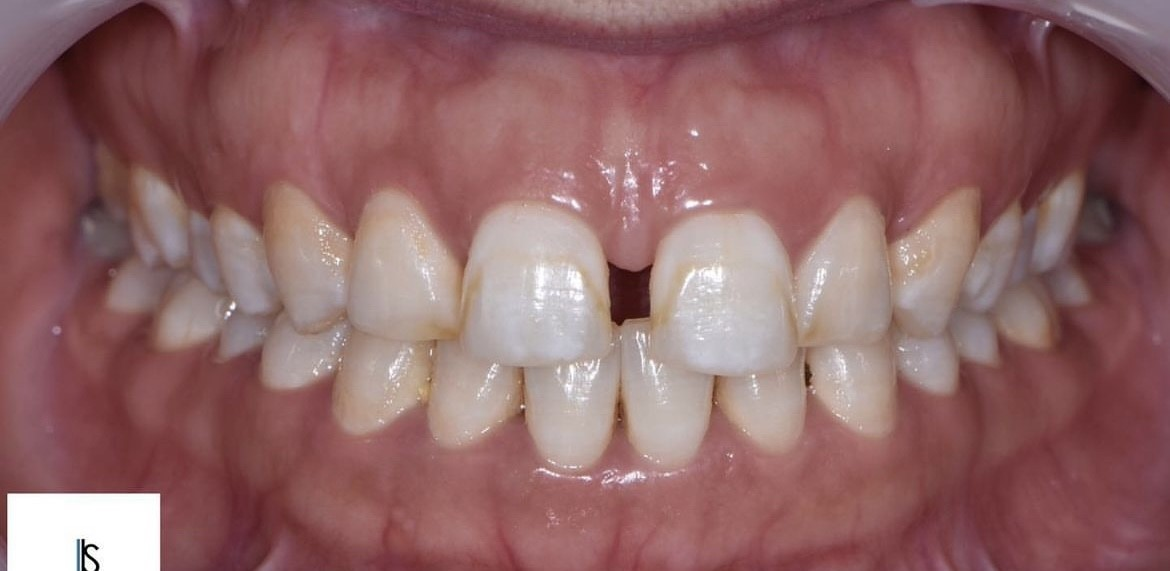UL1BC_mdecay: (973, 202, 1020, 314)
UL2BC_mdecay: (1035, 179, 1085, 270)
ULCI_mdecay: (650, 211, 797, 373)
ULC_mdecay: (892, 191, 978, 335)
ULLI_mdecay: (798, 201, 891, 347)
UR1BC_mdecay: (213, 207, 265, 320)
UR1M_mdecay: (128, 171, 184, 267)
UR2BC_mdecay: (187, 212, 213, 285)
UR2M_mdecay: (99, 152, 125, 217)
URCI_mdecay: (459, 205, 612, 368)
URC_mdecay: (263, 190, 351, 333)
URLI_mdecay: (350, 196, 456, 344)
